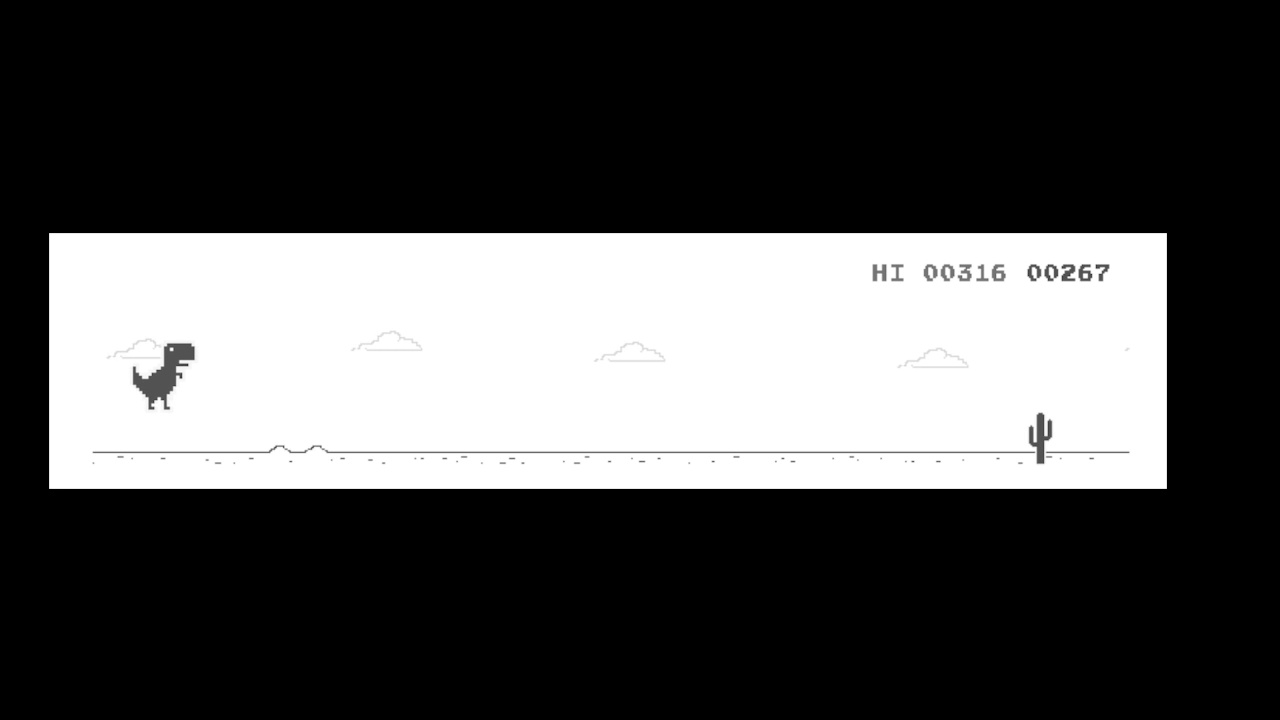dino: (134, 340, 196, 410)
small1: (1029, 410, 1053, 463)
